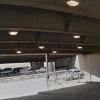Bridge: (5, 3, 92, 64)
